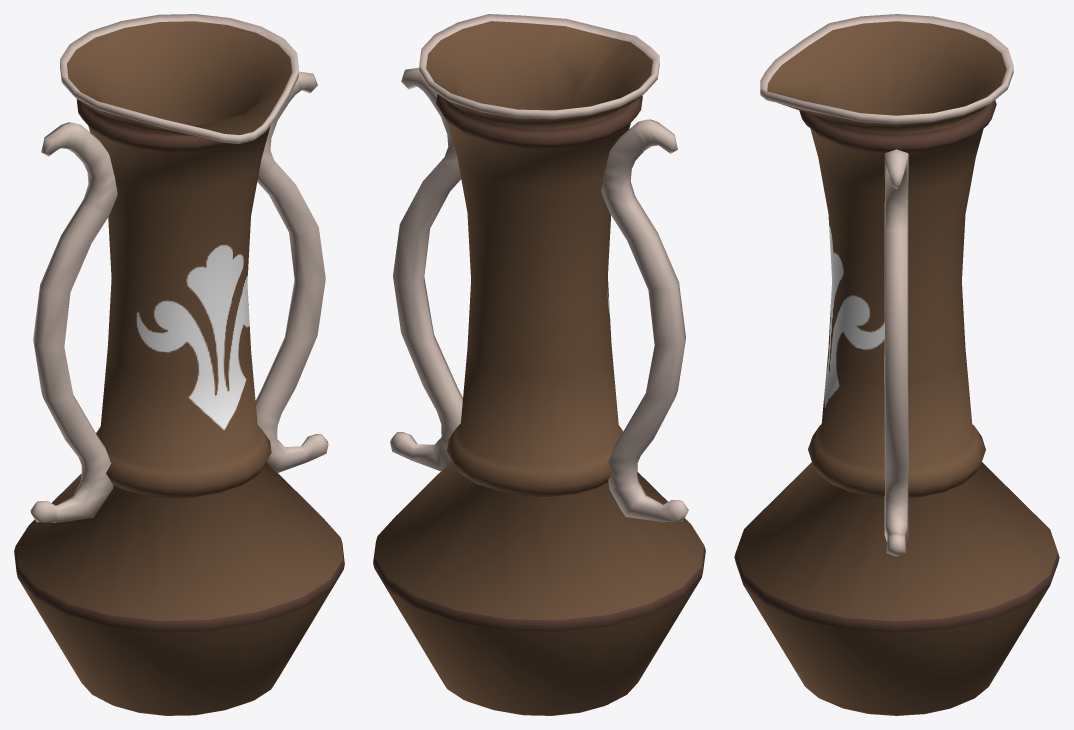
File: Vase_2-2.fbx
3 views of the same model, side by side, from view 1: azimuth 30°, elevation 25°; view 2: azimuth 150°, elevation 25°; view 3: azimuth 270°, elevation 25° (orthographic).
Visible parts, largest first — view 1: Vase_2-2; view 2: Vase_2-2; view 3: Vase_2-2.
Boxes of the visible parts, x1,y1,x2,y2 form: Vase_2-2: (14,14,344,715); Vase_2-2: (373,14,705,715); Vase_2-2: (734,14,1059,715).
Bounding box in the file's own units: 55.88 × 111 × 53.3.
Materials: 1 (1 with a texture image).
